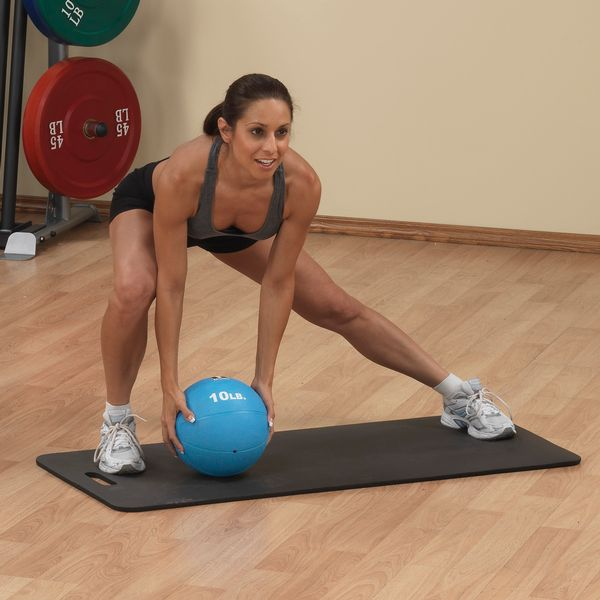blue ball: (174, 377, 269, 476)
